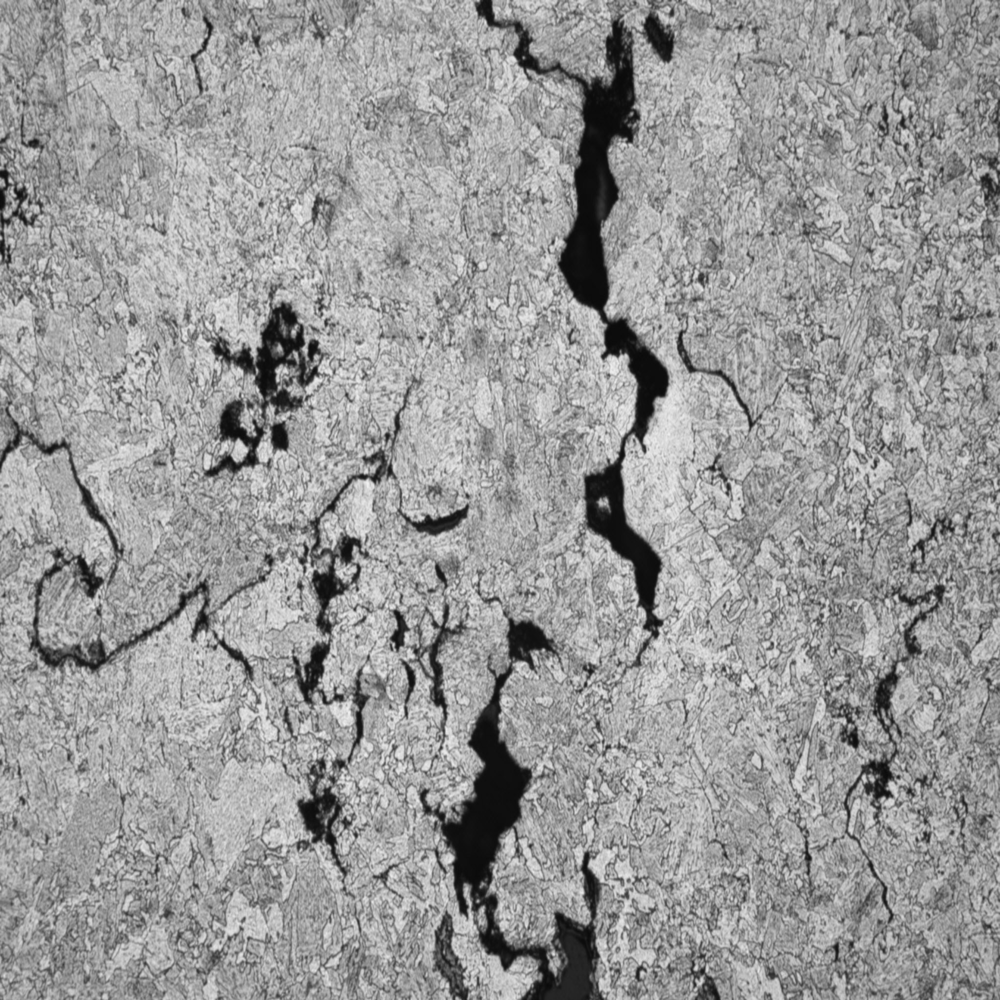crack: (4, 305, 449, 862), (522, 1, 735, 691), (446, 593, 628, 1000), (861, 516, 947, 865)
